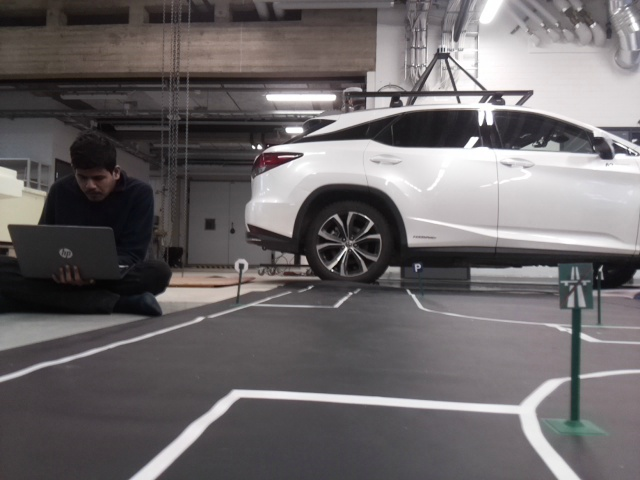HighwayExit: (559, 264, 592, 307)
